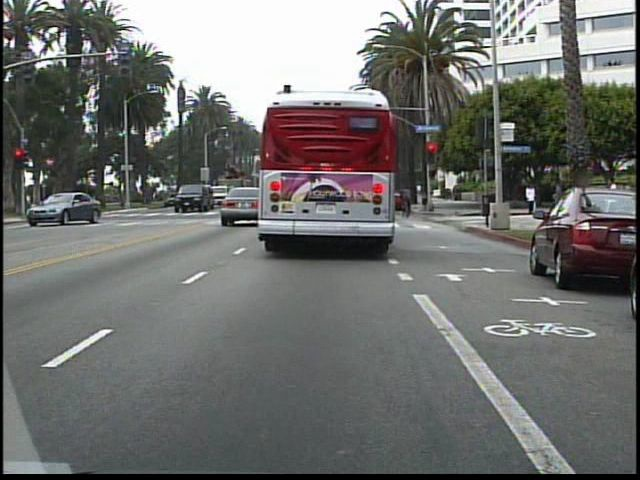person: (606, 174, 623, 221), (397, 181, 417, 216), (523, 182, 539, 214)
